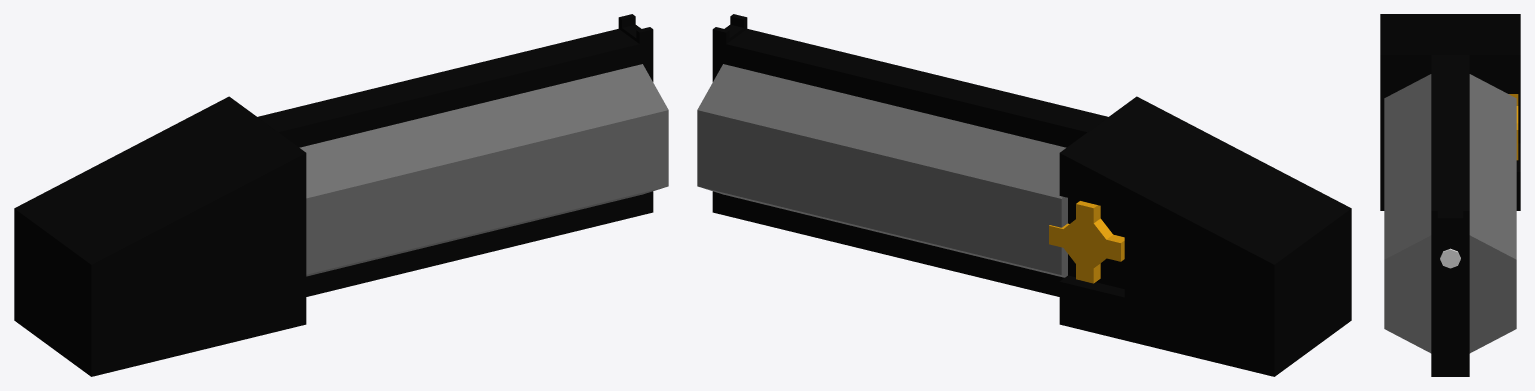
File: pistol-v1.fbx
The picture shows the model from 3 angles, left to right: view 1: azimuth 30°, elevation 25°; view 2: azimuth 150°, elevation 25°; view 3: azimuth 270°, elevation 25°; orthographic projection. The views are drawn at different scales.
Visible parts, largest first — view 1: Cube, Cylinder, Ram-for-cylinder; view 2: Cube, Cylinder, Ram-for-cylinder, Cog; view 3: Cylinder, Ram-for-cylinder, Cube, Out, Cog.
Boxes of the visible parts, x1,y1,x2,y2 form: Cube: [14, 96, 306, 376]; Cylinder: [299, 64, 668, 276]; Ram-for-cylinder: [257, 14, 653, 296]; Cube: [1059, 96, 1351, 376]; Cylinder: [697, 64, 1067, 277]; Ram-for-cylinder: [712, 14, 1108, 296]; Cog: [1049, 201, 1124, 283]; Cylinder: [1384, 74, 1516, 353]; Ram-for-cylinder: [1431, 55, 1469, 376]; Cube: [1380, 14, 1520, 210]; Out: [1440, 248, 1460, 268]; Cog: [1509, 94, 1518, 160].
Size of the model in its own units: 65.09 by 19.2 by 14.67.
